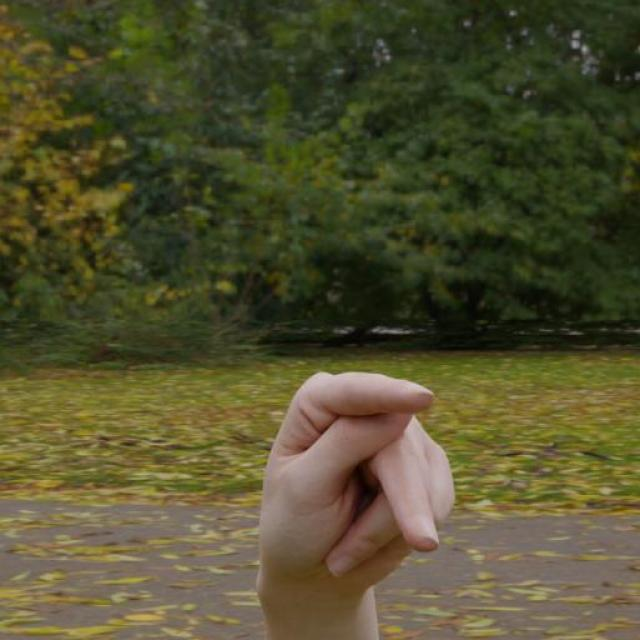P: (246, 369, 464, 633)
